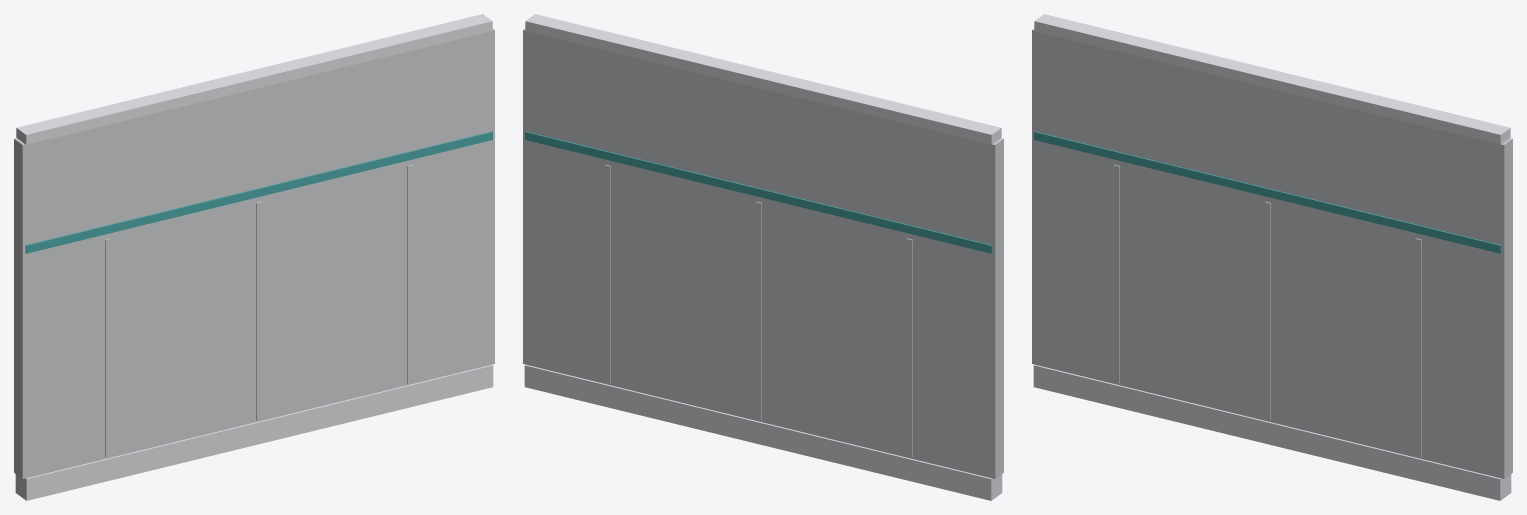
Rendered from chocolate-and-confectionery-factory-factory-wall-panel-af982a39__36805.glb.
3 renders of one model, left to right at view 1: azimuth 30°, elevation 25°; view 2: azimuth 150°, elevation 25°; view 3: azimuth 330°, elevation 25°, orthographic.
Visible parts, largest first — view 1: factory-wall-panel; view 2: factory-wall-panel; view 3: factory-wall-panel.
Part boxes in pixels (x1,y1,x2,y2): factory-wall-panel: (14, 14, 494, 500); factory-wall-panel: (523, 14, 1003, 500); factory-wall-panel: (1032, 14, 1512, 500).
Bounding box in the file's own units: 5 × 3.7 × 0.2002.
